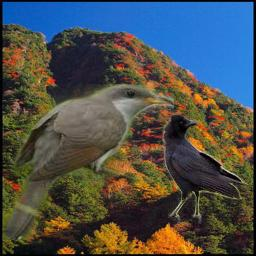Crow: (162, 113, 248, 224)
Cuckoo: (2, 84, 174, 240)
